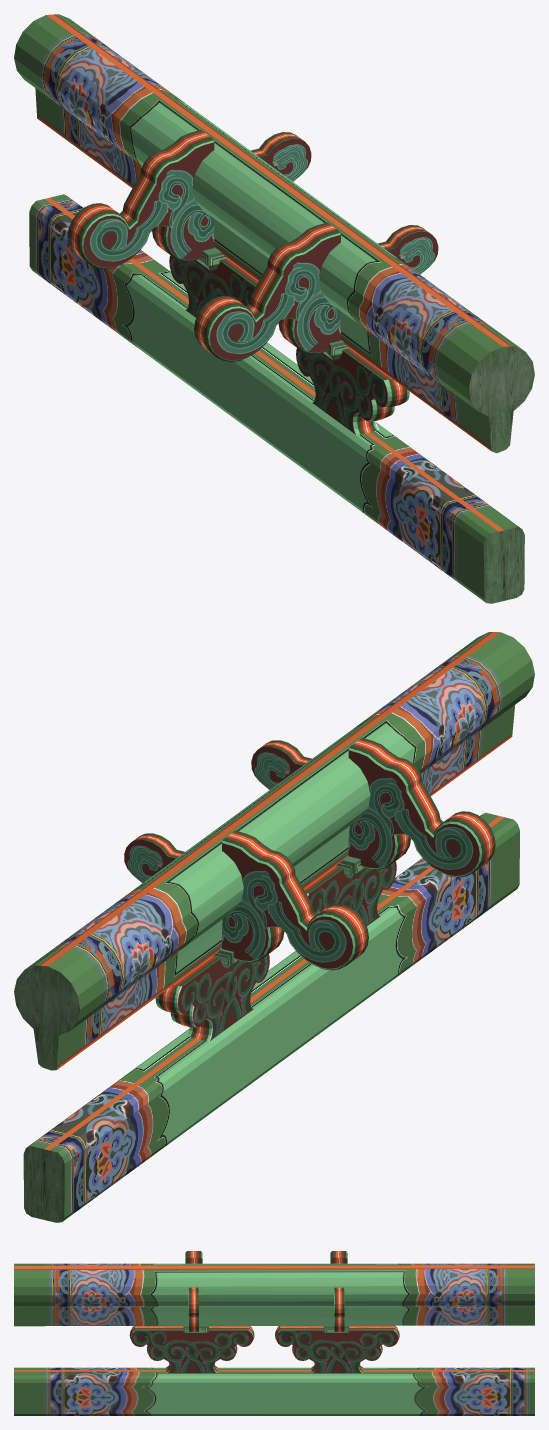
Rendered from SM_R_Dancheong_20.fbx.
The picture shows the model from 3 angles, top to bottom: view 1: azimuth 30°, elevation 25°; view 2: azimuth 150°, elevation 25°; view 3: azimuth 270°, elevation 25°; orthographic projection. The views are drawn at different scales.
Visible parts, largest first — view 1: SM_R_Dancheong_20; view 2: SM_R_Dancheong_20; view 3: SM_R_Dancheong_20.
Part boxes in pixels (<box>): SM_R_Dancheong_20: <box>14,14,534,603</box>; SM_R_Dancheong_20: <box>14,632,534,1222</box>; SM_R_Dancheong_20: <box>14,1251,534,1415</box>.
Bounding box in the file's own units: 117 × 394 × 125.
Materials: 3 (3 with a texture image).
